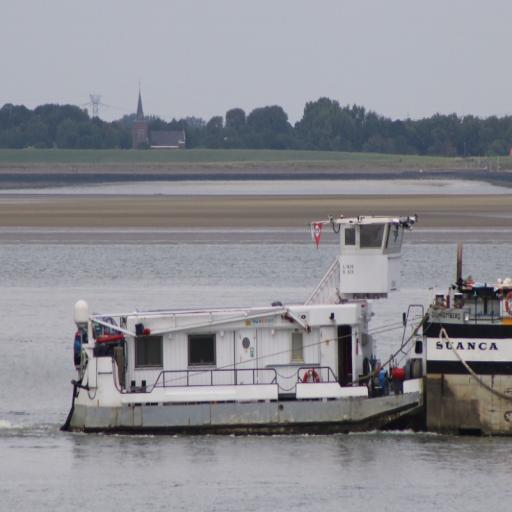tugboat: (60, 211, 440, 455)
